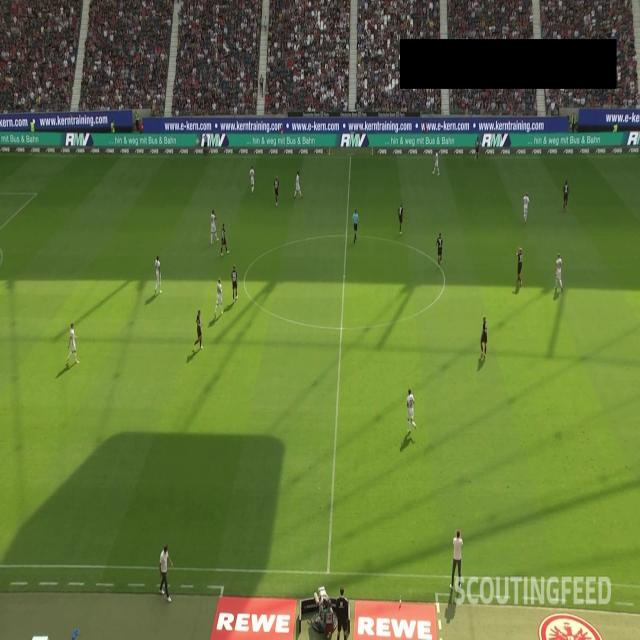player: (406, 391, 418, 441), (480, 319, 493, 357), (68, 324, 79, 366), (515, 247, 525, 291), (208, 208, 218, 246), (554, 254, 562, 299), (196, 310, 204, 351), (216, 278, 224, 318), (219, 225, 228, 259), (436, 233, 444, 269), (433, 144, 441, 178), (522, 191, 531, 221), (248, 165, 257, 192), (274, 176, 282, 206), (231, 264, 238, 296), (564, 179, 570, 215), (156, 256, 161, 296), (475, 137, 482, 159), (296, 172, 301, 202), (398, 204, 402, 233)
